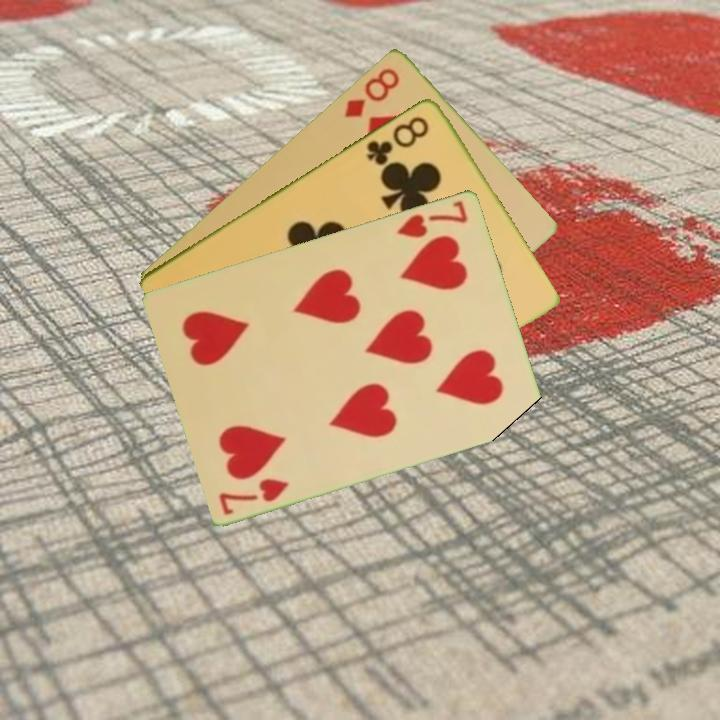7h: (394, 196, 471, 241), (215, 474, 292, 518)
8c: (363, 112, 432, 168)
8d: (340, 63, 403, 120)
